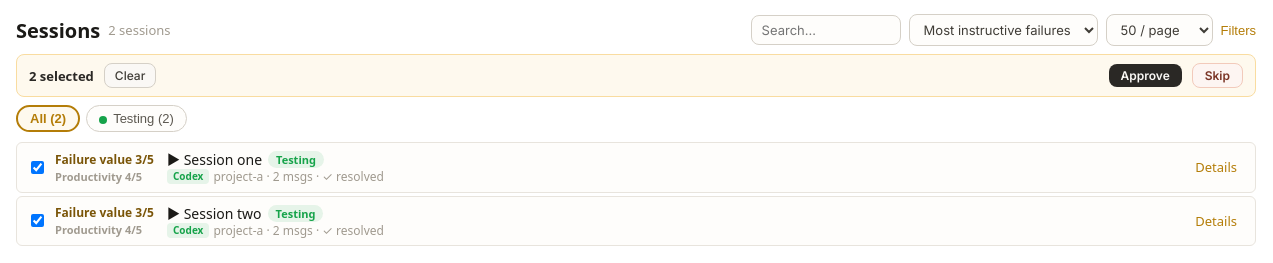
Test: Inbox selection defaults › selects every loaded session and preserves manual deselection and Clear
Expected: the checkbox named "Select session: Session two" is checked, [31, 214, 44, 227]
Expected: the text "2 selected" is shown, [29, 66, 94, 84]
Click the checkbox named "Select session: Session one". click: {"x": 38, "y": 167}
box: [31, 161, 44, 174]
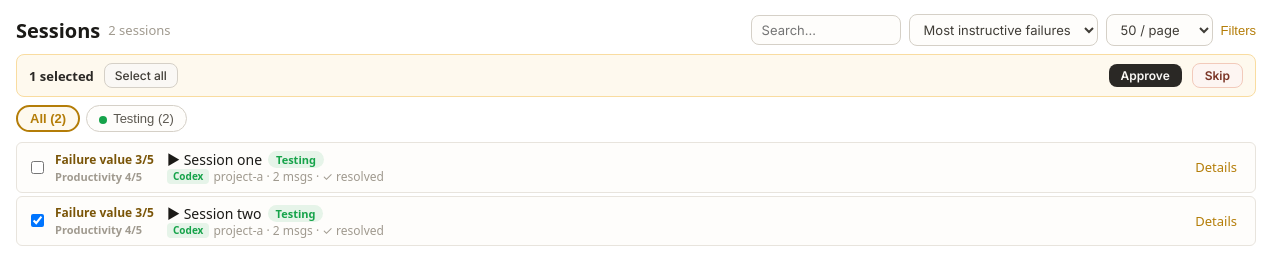
Expected: the checkbox named "Select session: Session two" is checked, [31, 214, 44, 227]
Expected: the checkbox named "Select session: Session one" is not checked, [31, 161, 44, 174]
Expected: the text "1 selected" is shown, [29, 66, 94, 84]
Click the button "Select all". click: {"x": 141, "y": 76}
box: [104, 63, 178, 88]
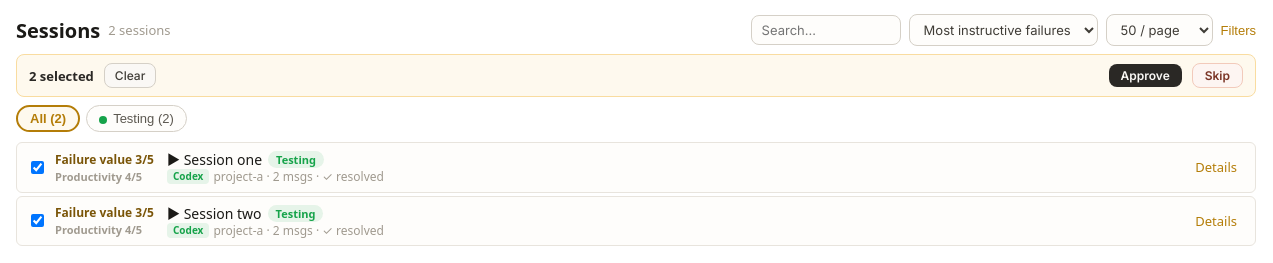
Expected: the checkbox named "Select session: Session two" is checked, [31, 214, 44, 227]
Expected: the checkbox named "Select session: Session one" is checked, [31, 161, 44, 174]
Click the button "Clear". click: {"x": 130, "y": 76}
box: [104, 63, 156, 88]
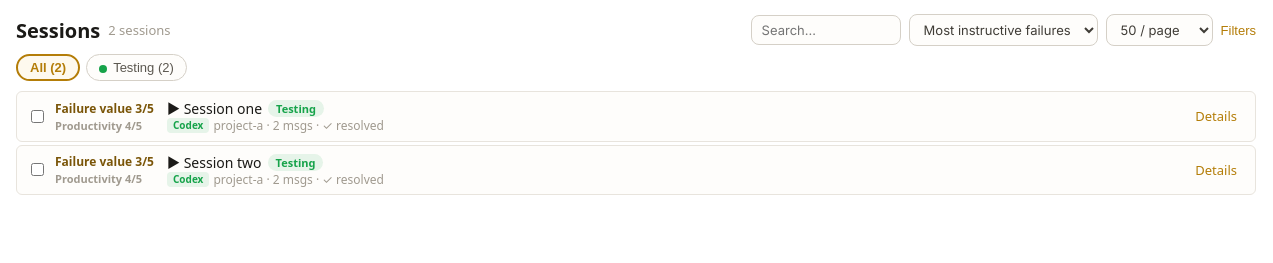
Expected: the checkbox named "Select session: Session one" is not checked, [31, 110, 44, 123]
Expected: the checkbox named "Select session: Session two" is not checked, [31, 163, 44, 176]
Expected: the text "selected" is gone
